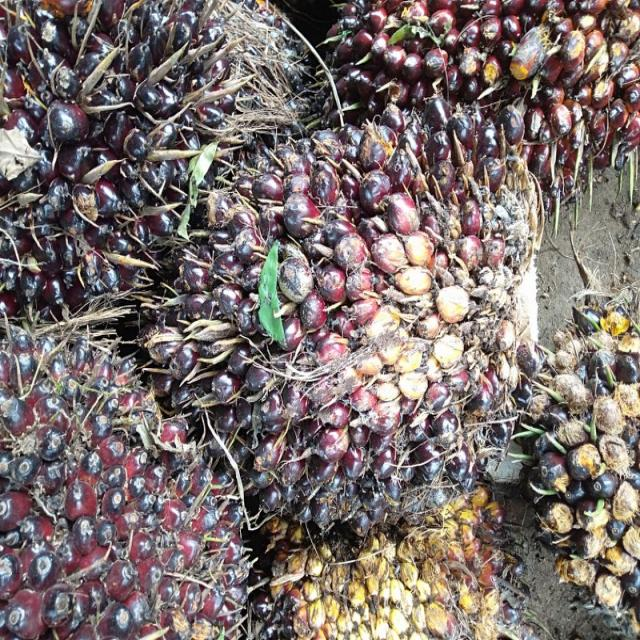fraksi 00: (156, 123, 542, 532)
